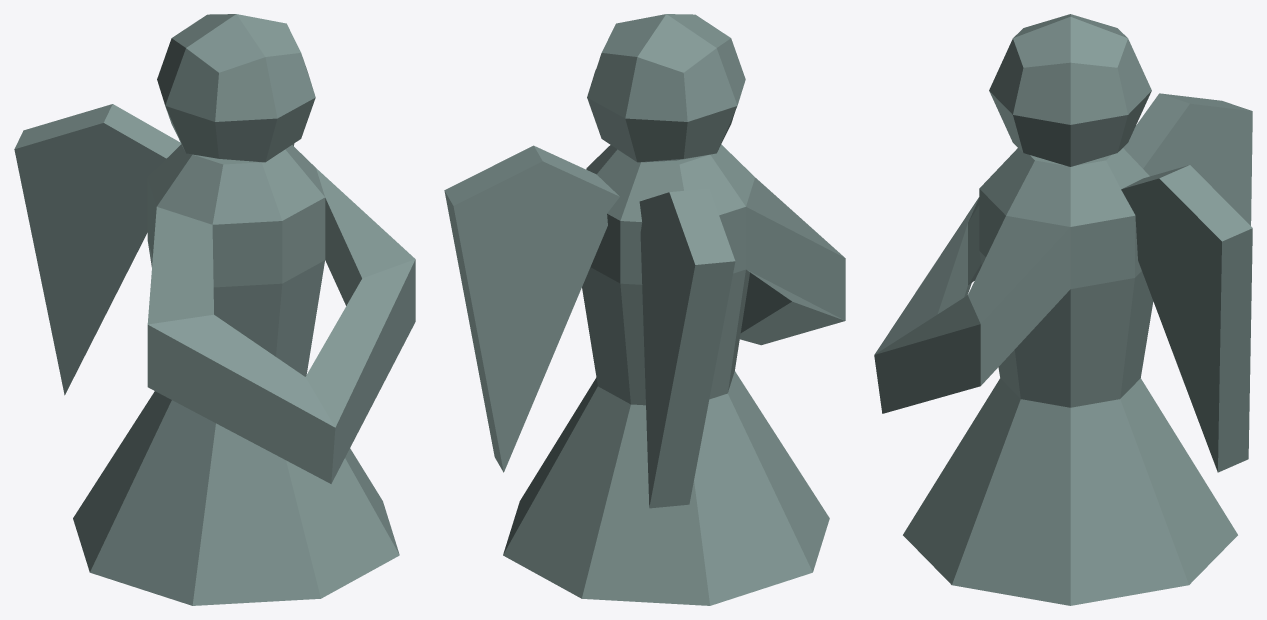
Rendered from angelus.fbx.
3 views of the same model, side by side, from view 1: azimuth 30°, elevation 25°; view 2: azimuth 150°, elevation 25°; view 3: azimuth 270°, elevation 25° (orthographic).
Visible parts, largest first — view 1: Cylinder.028; view 2: Cylinder.028; view 3: Cylinder.028.
Boxes of the visible parts, x1,y1,x2,y2 form: Cylinder.028: [14, 14, 415, 605]; Cylinder.028: [444, 14, 845, 605]; Cylinder.028: [874, 14, 1252, 605].
Bounding box in the file's own units: 22.7 × 38.7 × 25.62.
